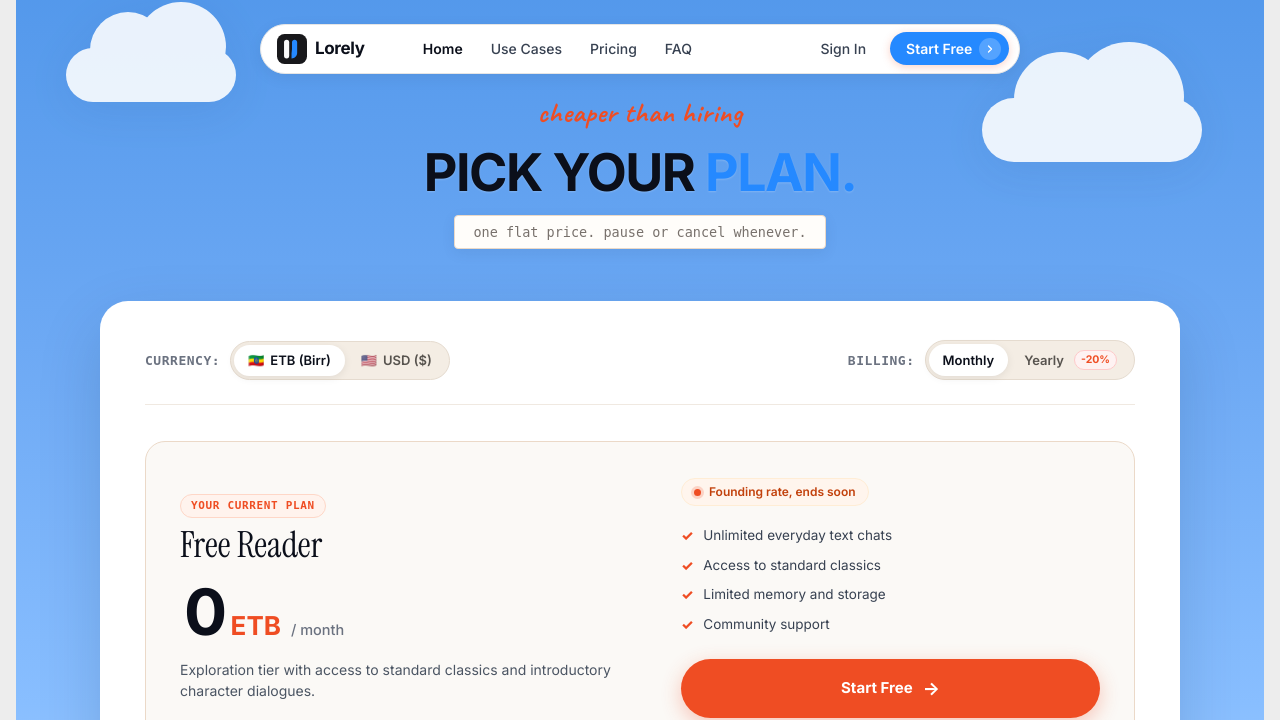
Test: LandingPage Component › renders the Pricing section with sky atmosphere, currency toggling, and tier switching
Later steps or results of the test are not shown.
(page scrolled)
Check: the text "cheaper than hiring" is shown, box [538,92,742,134]
Check: the text "one flat price. pause or cancel whenever." is shown, box [473,224,807,240]
Note: Toggle currency to USD
Click the button "🇺🇸 USD ($)".
click(396, 360)  # box [347,345,446,376]
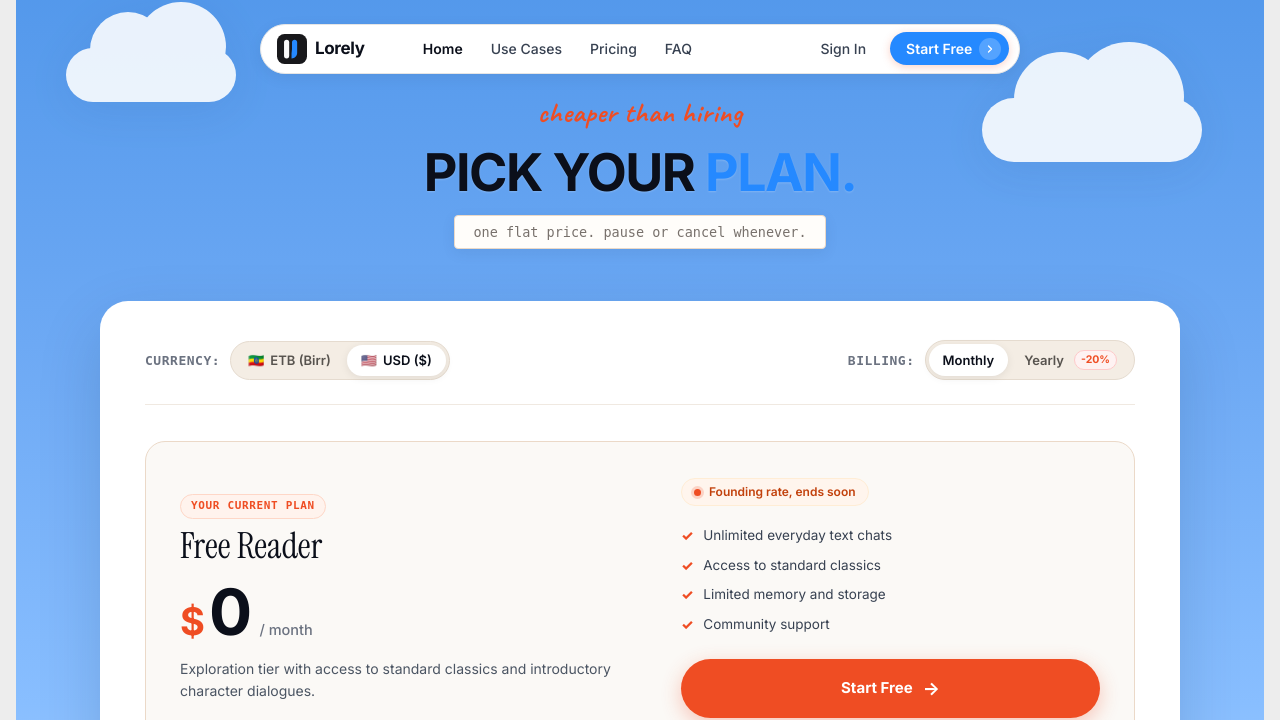
Check: the button "🇺🇸 USD ($)" has class "is-active", box [347,345,446,376]
Note: Toggle billing to Yearly
Click the button "Yearly -20%".
click(1071, 360)  # box [1010,344,1131,376]
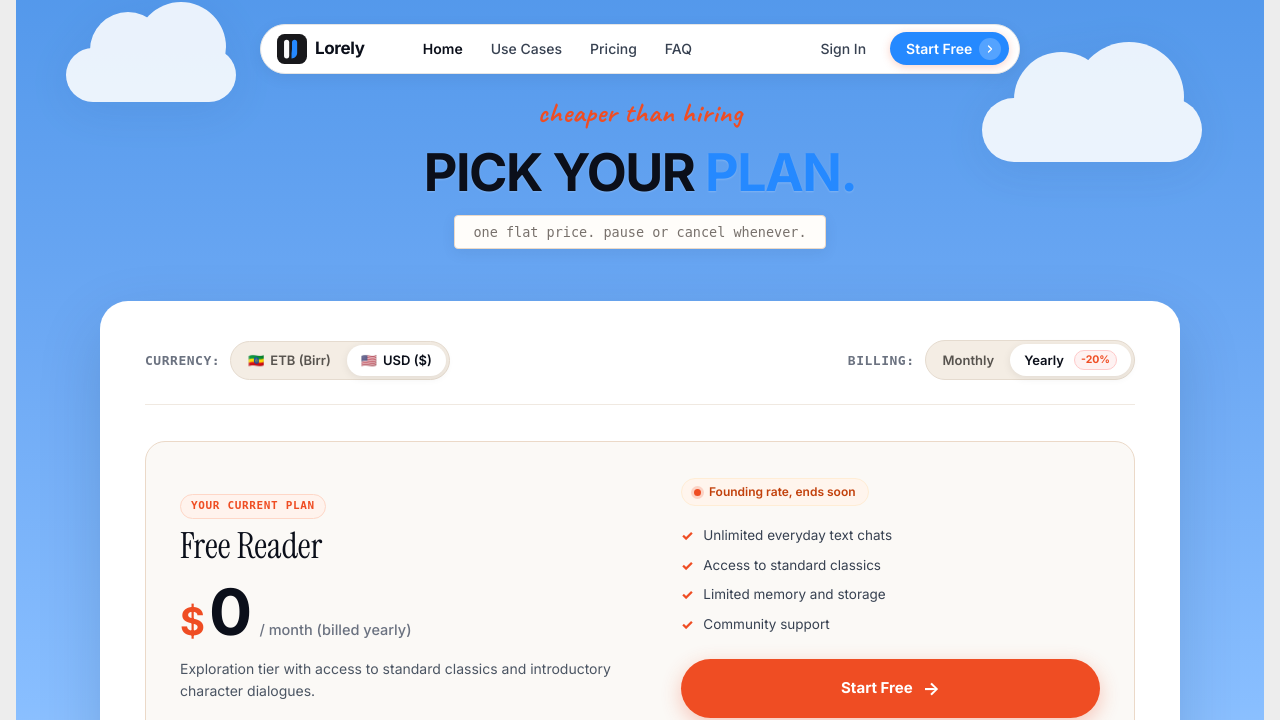
Check: the button with test id "pricing-master-action-btn" shows "Start Free", box [681,659,1100,718]
Check: the button "Yearly -20%" has class "is-active", box [1010,344,1131,376]
